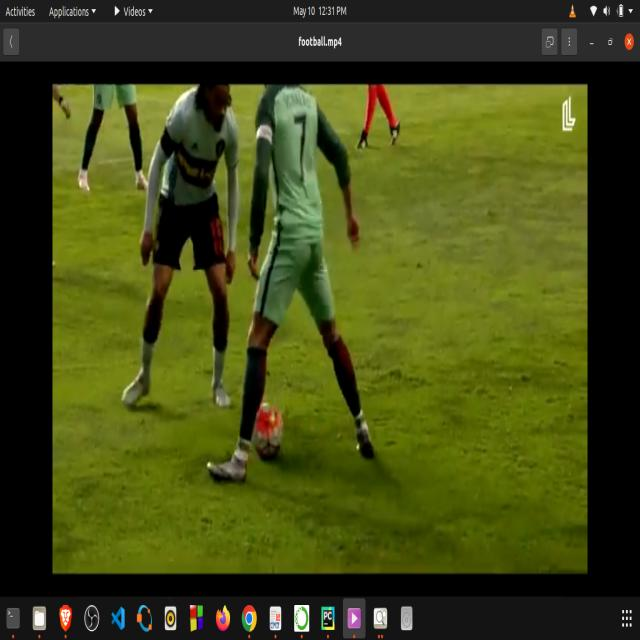Ball: (252, 395, 291, 472)
football-players: (204, 83, 380, 490), (119, 83, 244, 418), (76, 86, 152, 202), (352, 84, 410, 154)
